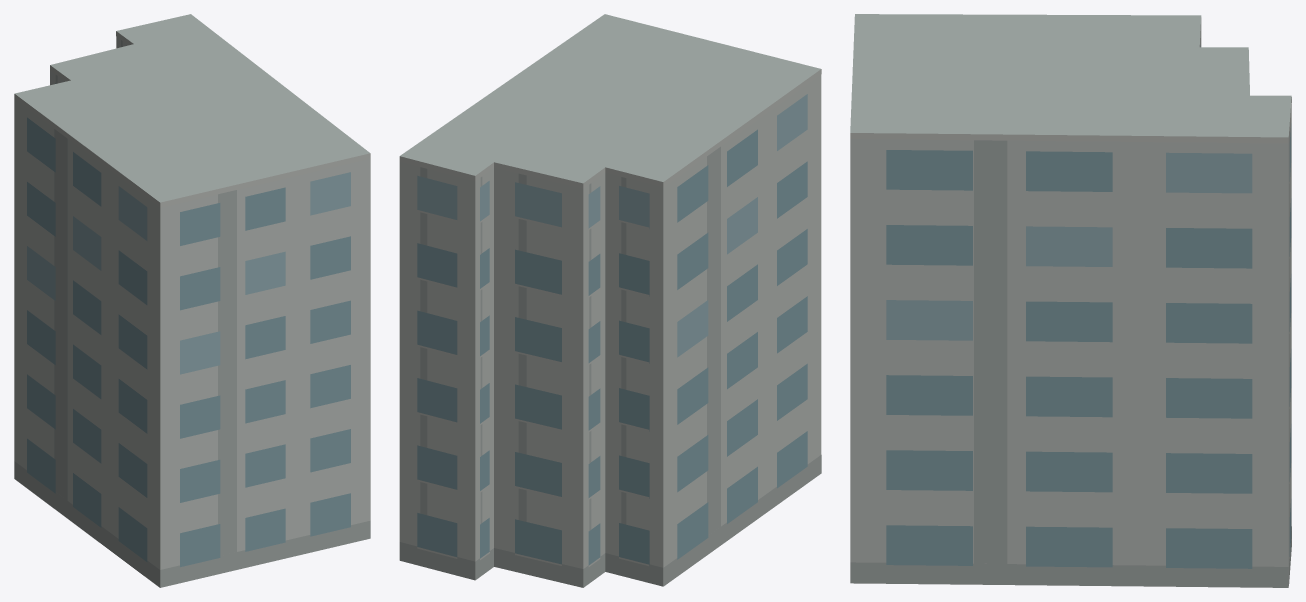
Rendered from survey-upis-32566079.glb.
3 views of the same model, side by side, from view 1: azimuth 30°, elevation 25°; view 2: azimuth 150°, elevation 25°; view 3: azimuth 270°, elevation 25° (orthographic). The views are drawn at different scales.
Visible parts, largest first — view 1: survey-upis-32566079.tmp; view 2: survey-upis-32566079.tmp; view 3: survey-upis-32566079.tmp.
Boxes of the visible parts, box(x1,y1,x2,y2) form: survey-upis-32566079.tmp: box(14, 14, 370, 587); survey-upis-32566079.tmp: box(399, 14, 821, 587); survey-upis-32566079.tmp: box(850, 14, 1291, 587).
Bounding box in the file's own units: 10.53 × 17.9 × 15.91.
